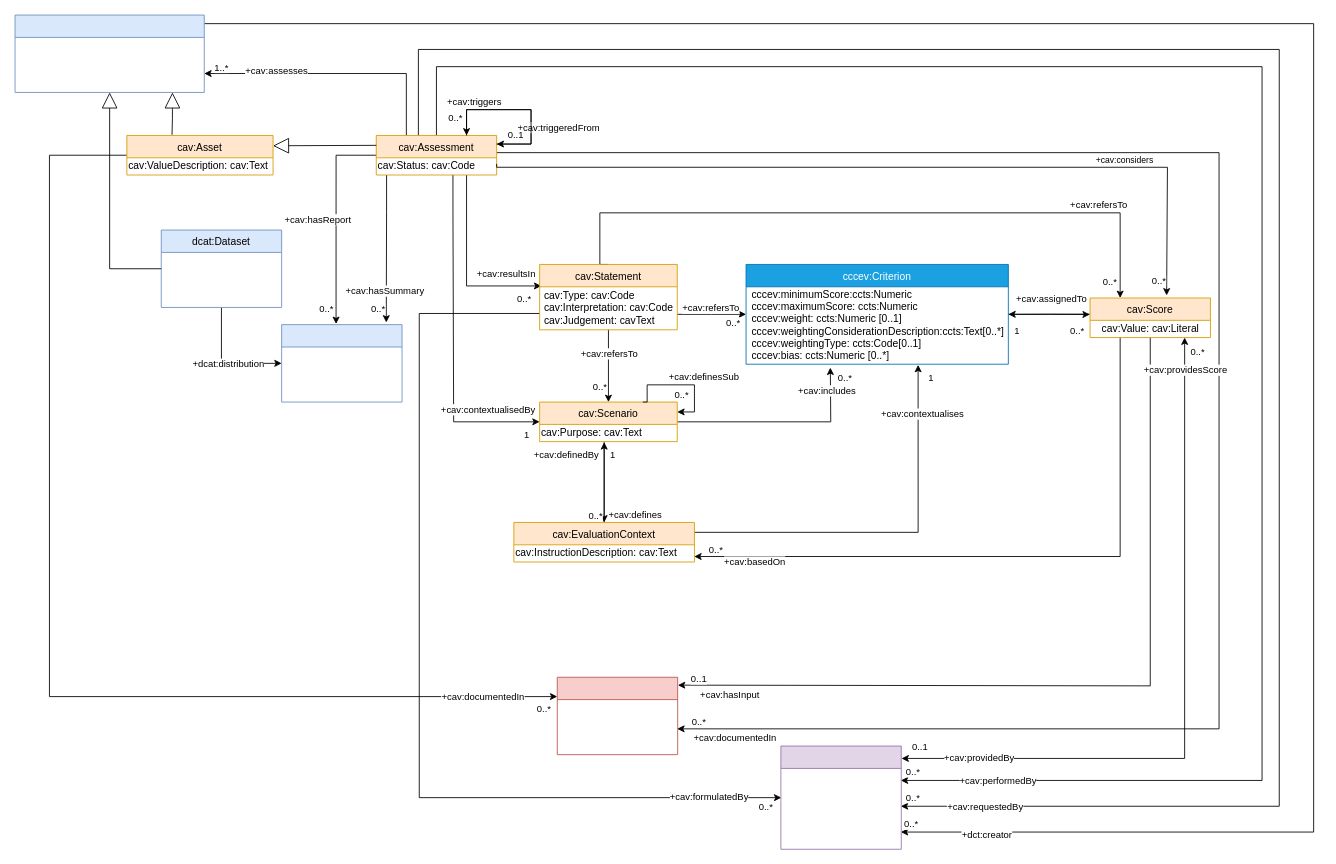
This 1336x864 diagram has some shape labels left out. The centre of each missing label's shape, as x and y in pixels:
"dcat:Distribution" belongs at point 341,363.
"dcat:Resource" belongs at point 109,53.
"foaf:Agent" belongs at point 840,797.
"rdfs:Resource" belongs at point 617,715.
